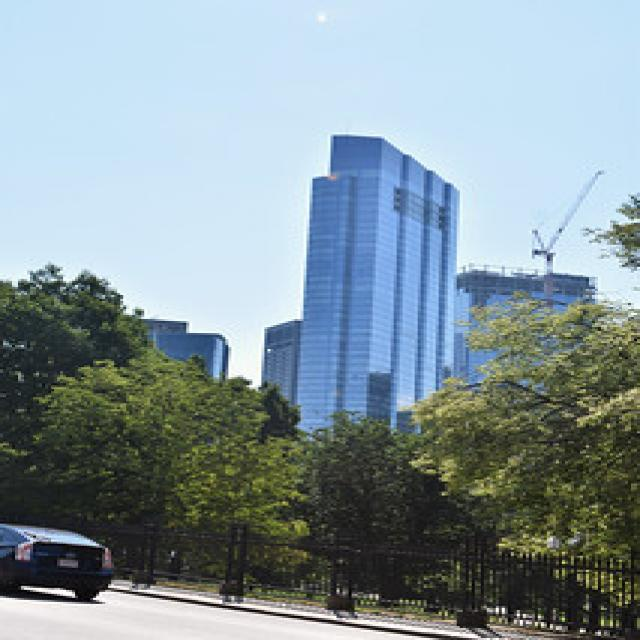Normal_building: (285, 128, 460, 466)
